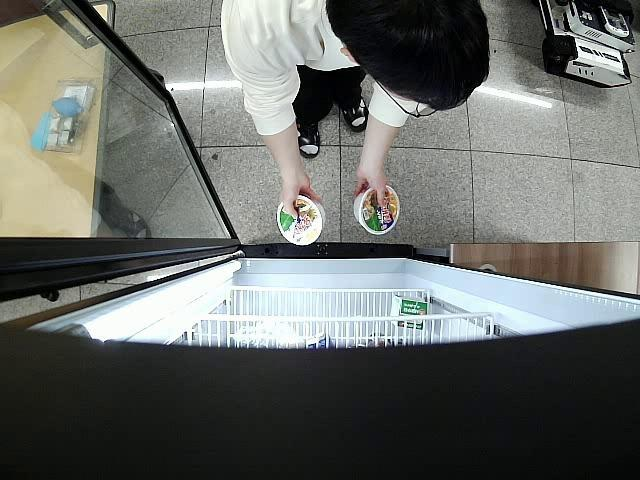09_yukGaeJang: (278, 194, 326, 245), (354, 186, 400, 235)
